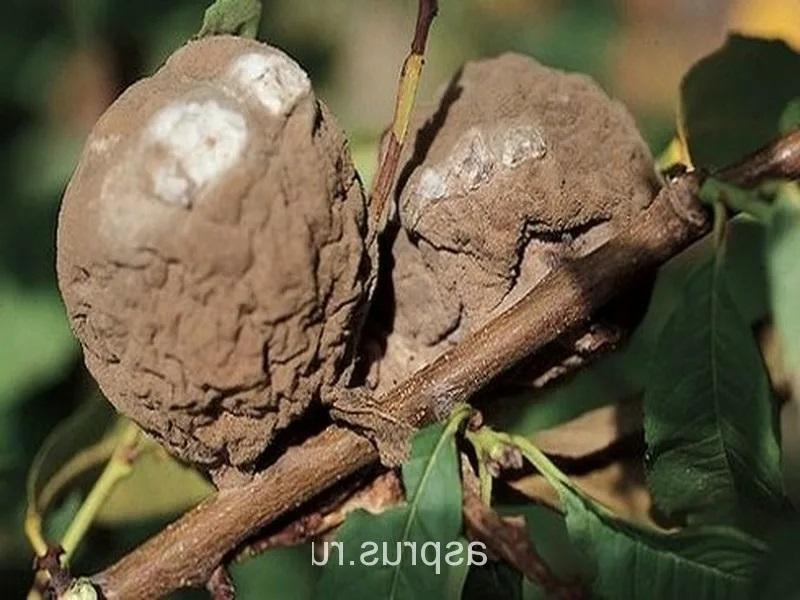mummified_fruits: (57, 36, 376, 485), (354, 53, 660, 395)
